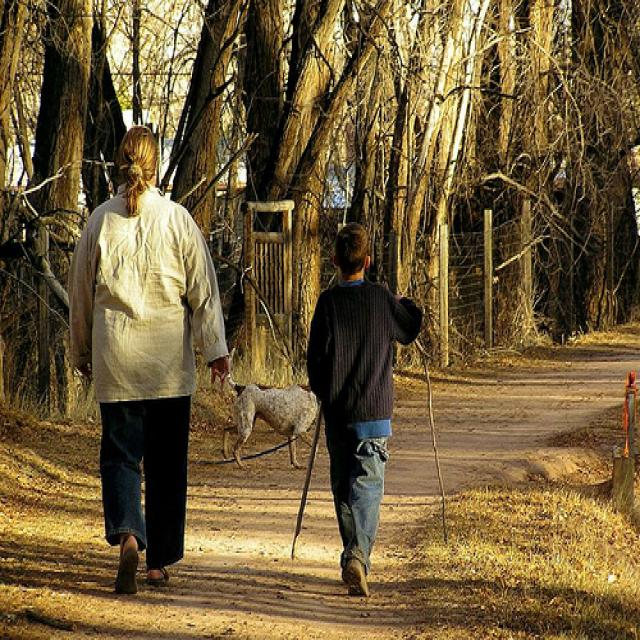adult: (64, 125, 231, 598)
child: (300, 222, 426, 595)
